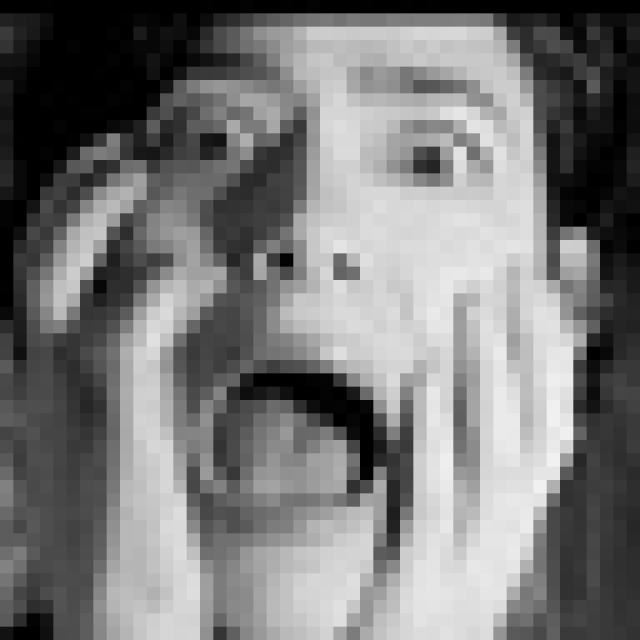fear: (138, 45, 517, 549)
